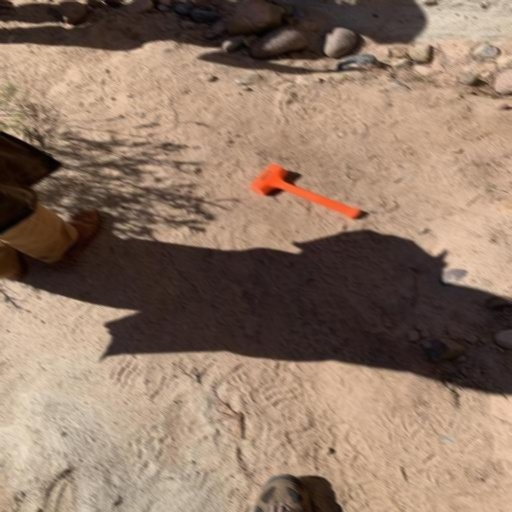mallet: (248, 164, 362, 220)
